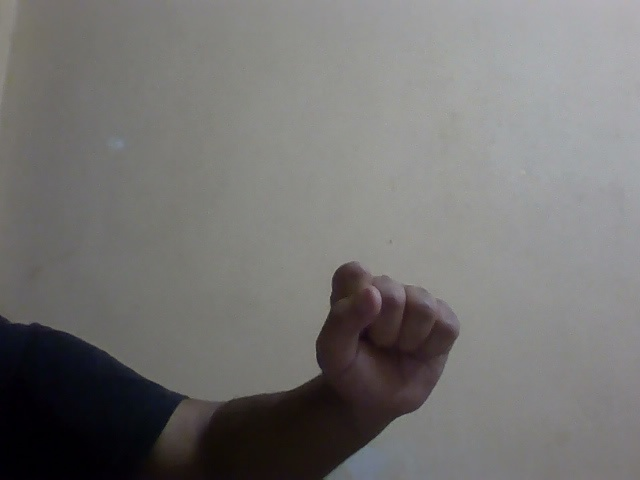Yes: (273, 239, 503, 448)
